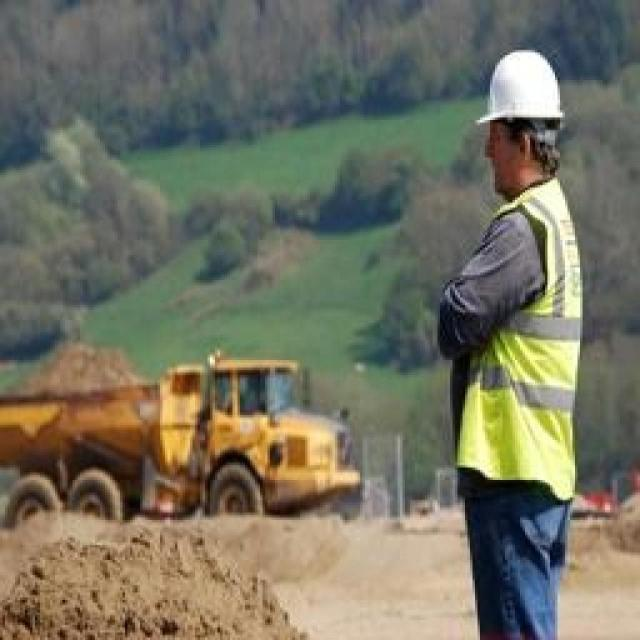Helmet: (462, 17, 577, 171)
Safety Vest: (428, 155, 622, 512)
